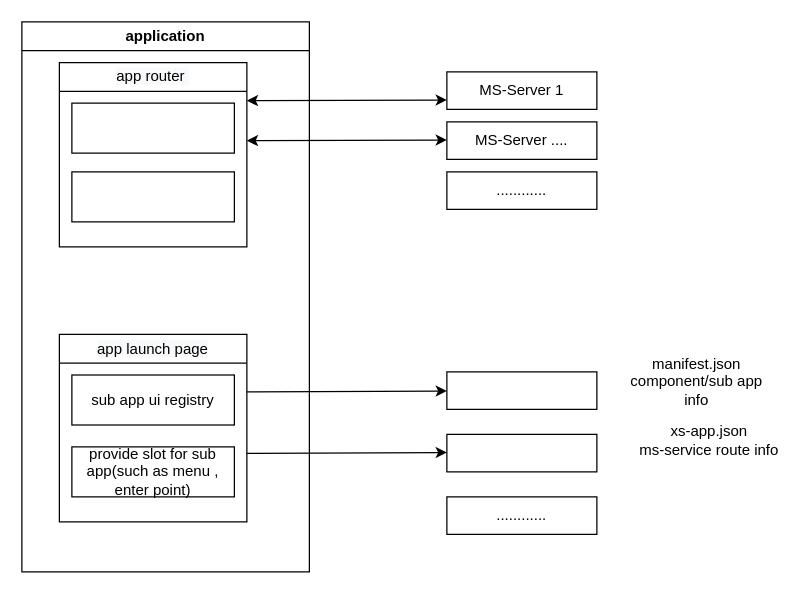
Some shapes in this 806 by 594 pixel diagram are drawn without their labels. The shapes that lost their labels are listed below. From the top down, each one's centre as x and y in pixels, then its label:
pixel 152 127: app launch page bootstrap
pixel 152 196: sub app destination registry(for ms invoke in frontend)
pixel 521 390: Sub app / Sub component 1
pixel 521 452: Sub app / Sub component 2
